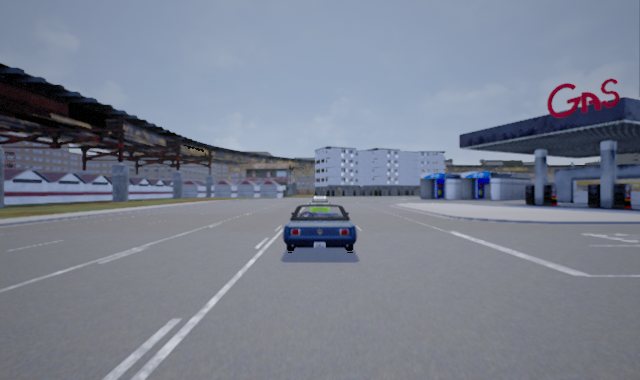vehicle: (281, 200, 358, 260), (308, 195, 331, 218)
